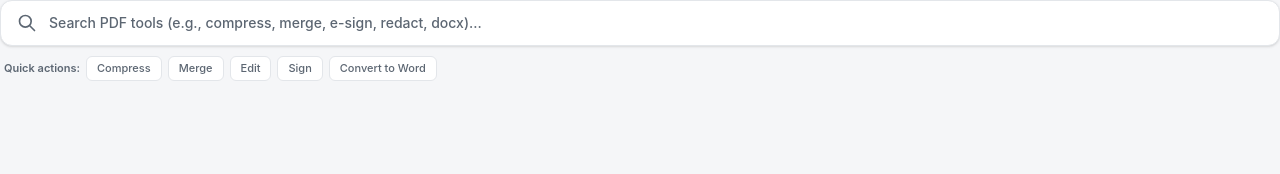
UI Redesign Component Tests › ToolSearch Component › matches tools using task-based synonyms like 'shrink'
Step 1. Replace the text in the search field with placeholder "Search PDF tools" with "shrink" → (656, 23), box [49,13,1263,33]
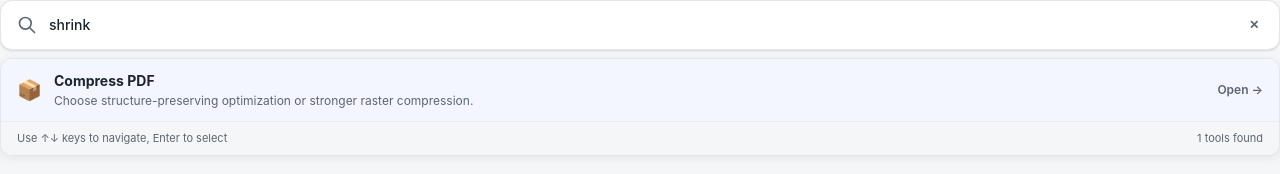
Expected: the text "Compress PDF" is shown, [54,71,155,91]
